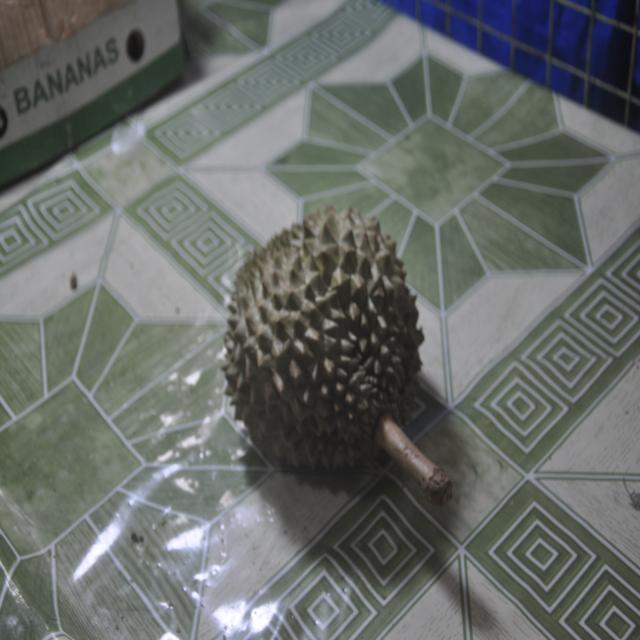mature: (224, 206, 452, 505)
